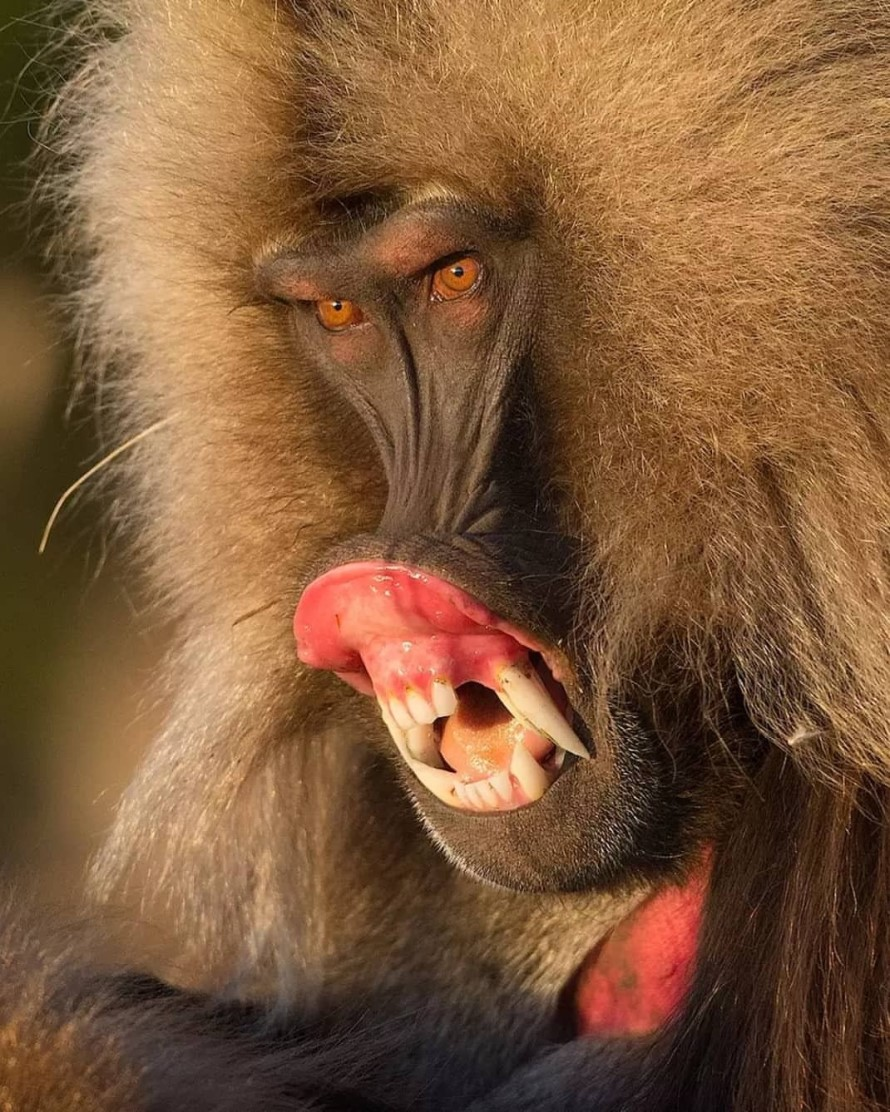Gelada: (87, 17, 878, 1068)
